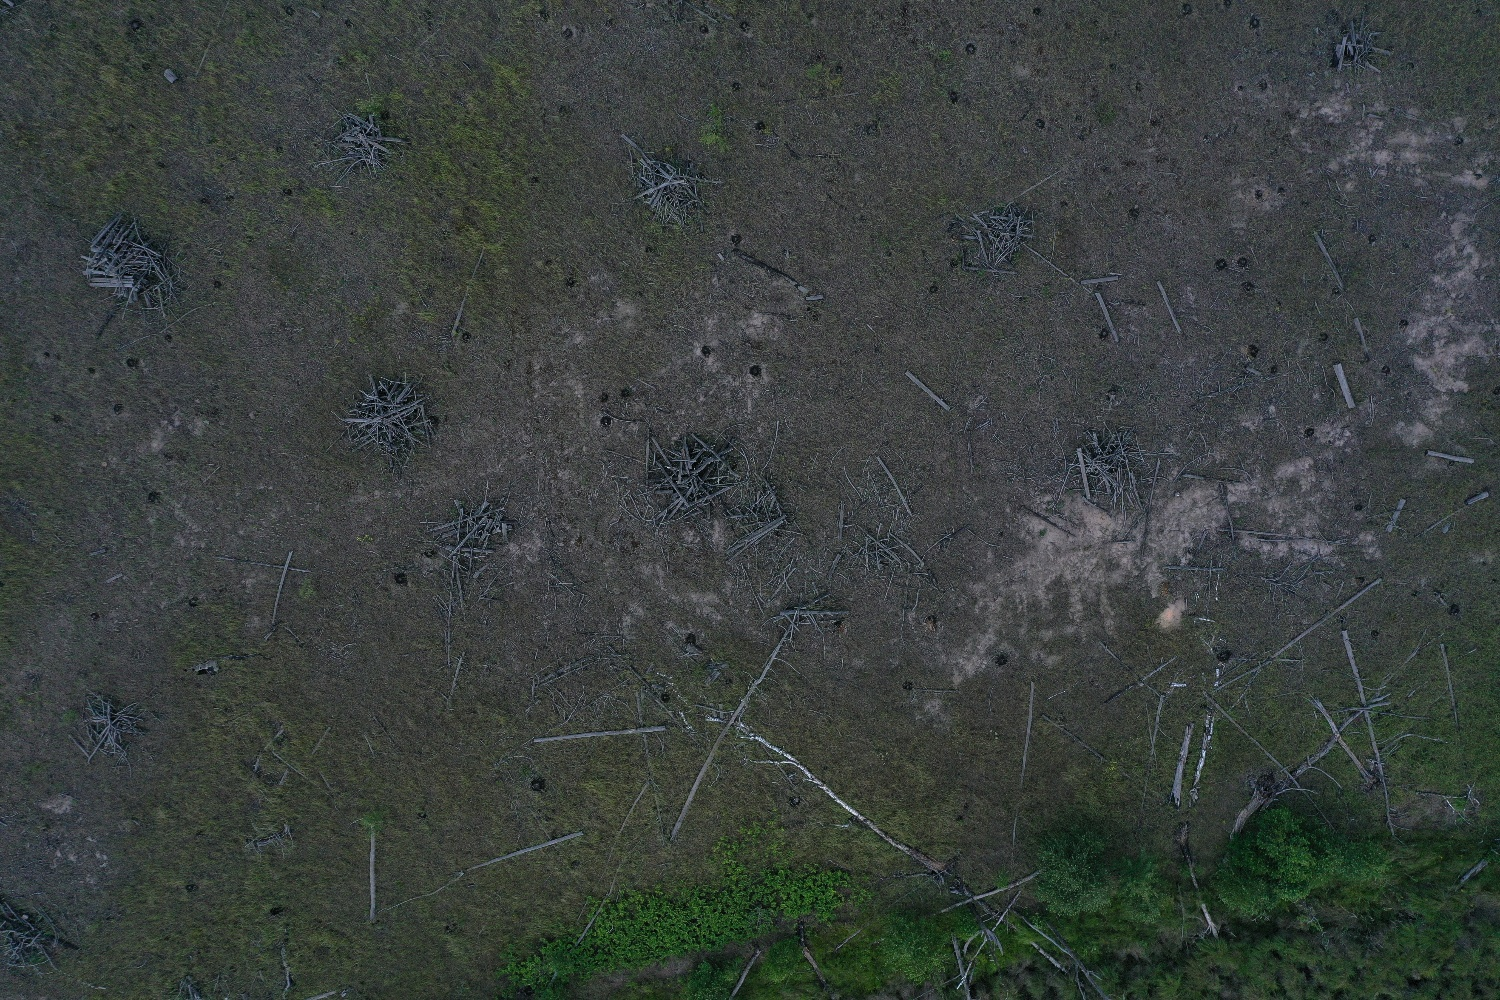branches: (631, 426, 749, 533), (79, 213, 187, 320), (329, 374, 439, 470), (1071, 424, 1158, 520), (424, 497, 520, 579), (66, 691, 152, 769), (1, 894, 81, 975), (312, 112, 406, 177), (725, 474, 787, 555), (633, 157, 703, 225), (770, 592, 850, 650), (969, 202, 1039, 267), (1329, 12, 1395, 74), (860, 532, 924, 574)
